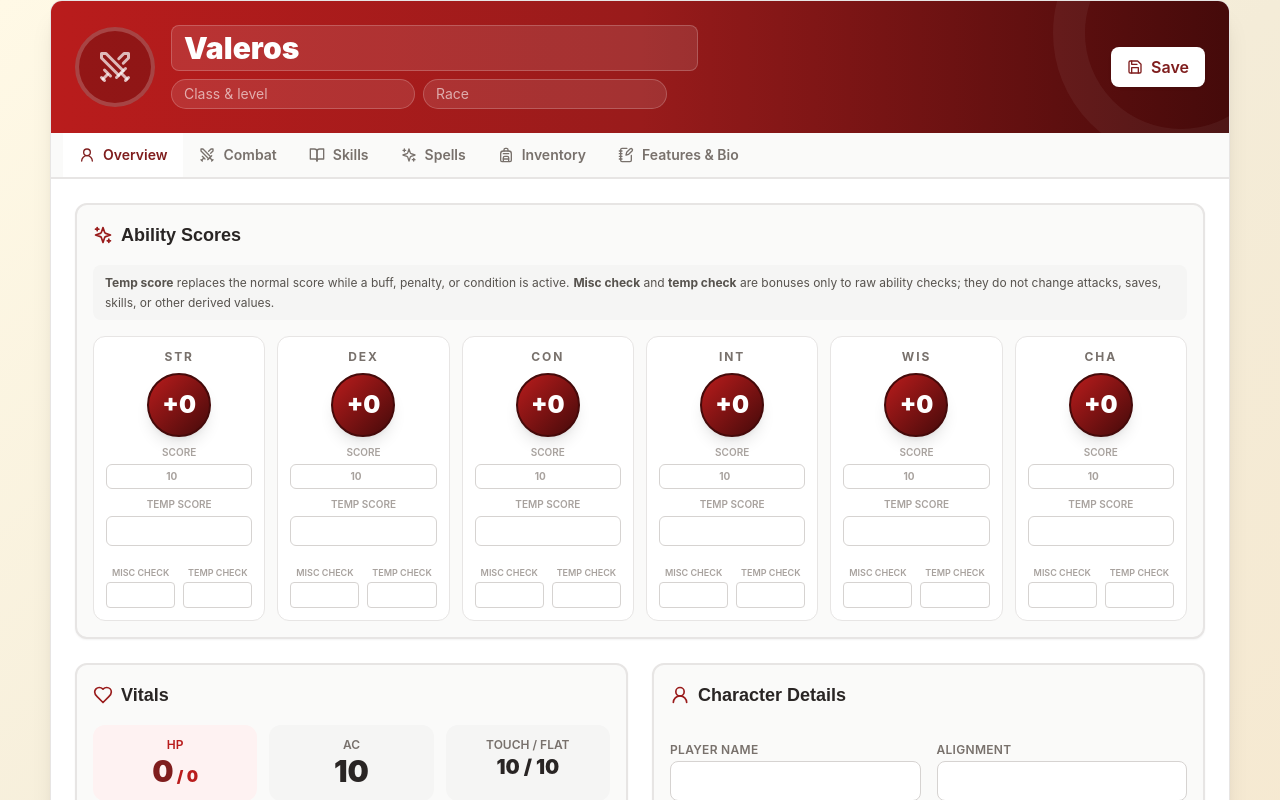
it: Pathfinder1eCharacterSheet › recalculates AC from its source fields and keeps the total read-only
Replace the text in the number field named "Dexterity score" with "14": [363, 476] box [290,464,437,489]
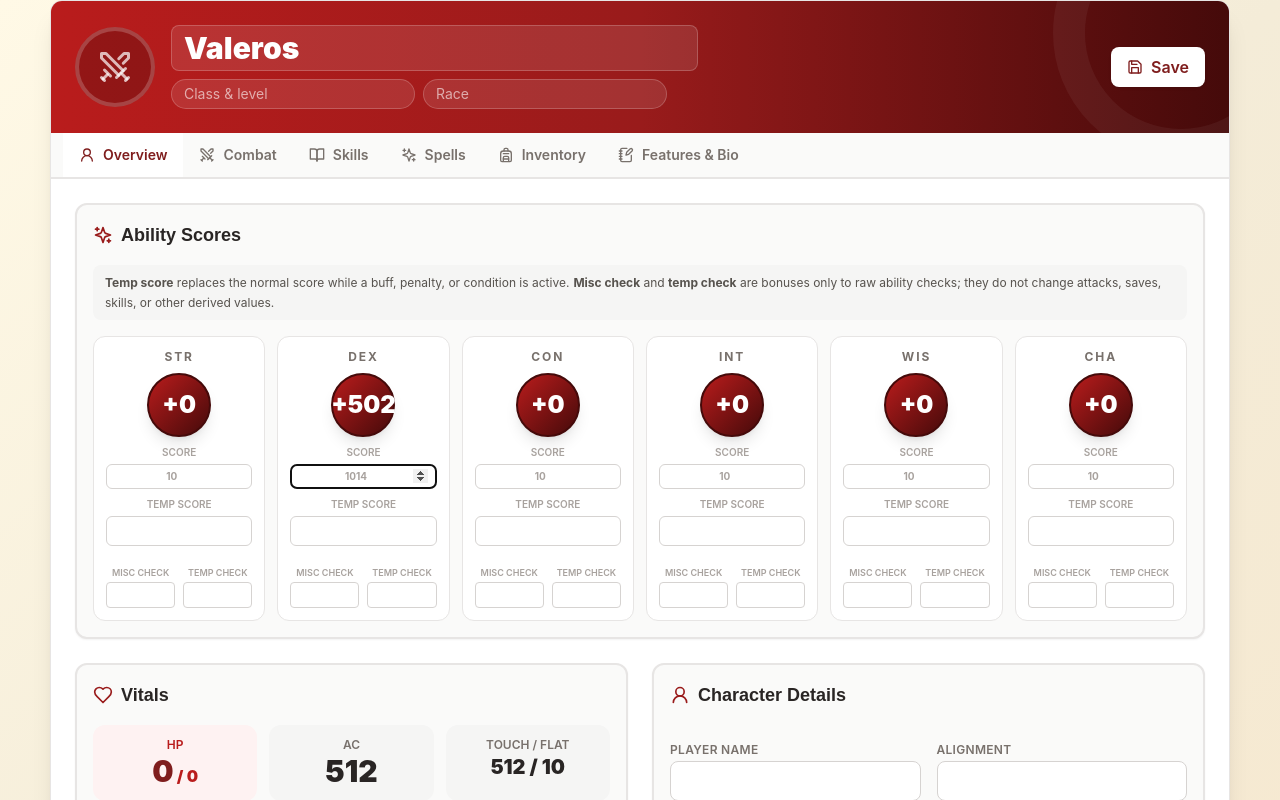
Now the text titled "Calculated automatically" shows "12", box [325,753,378,789]
